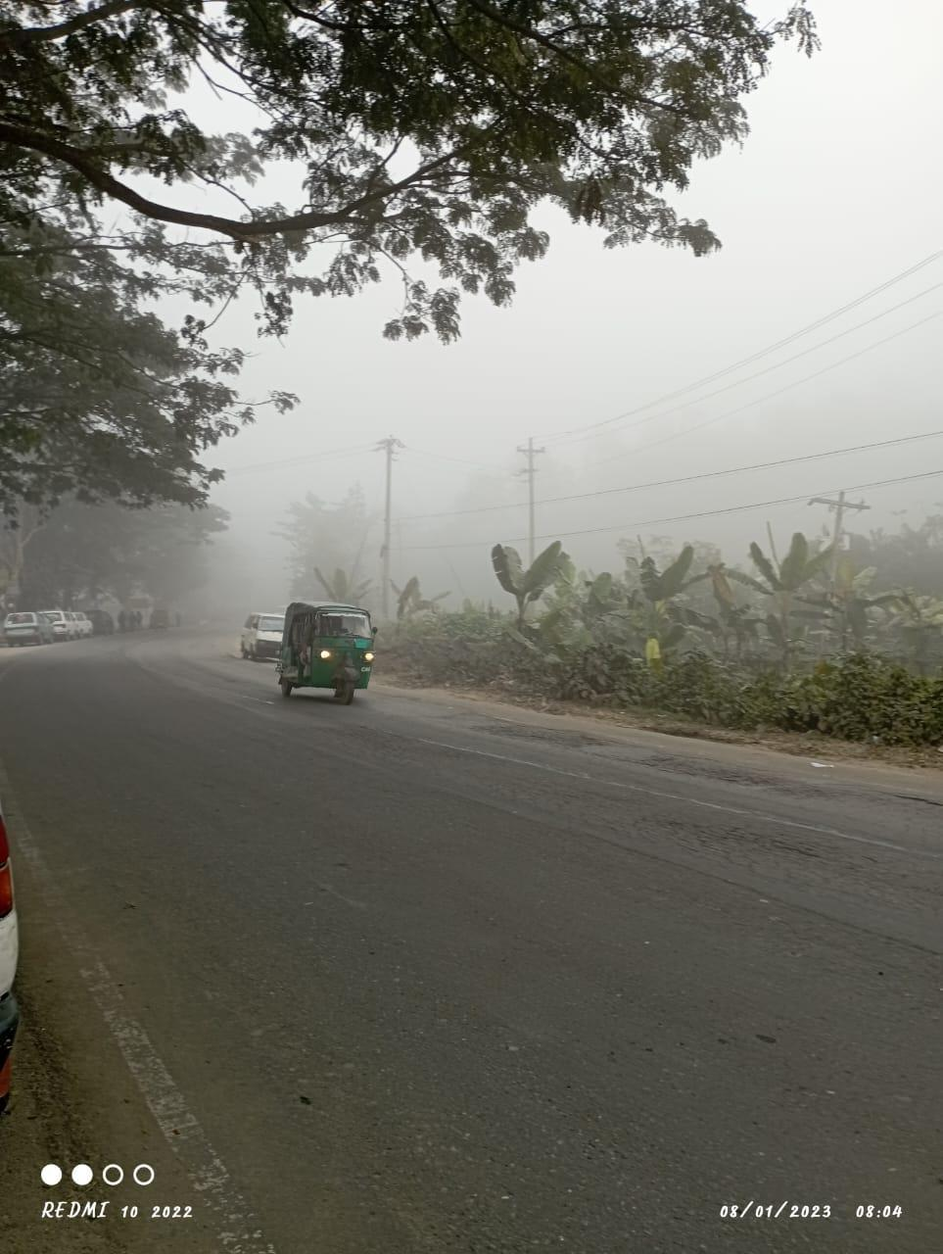Car: (227, 606, 290, 661)
